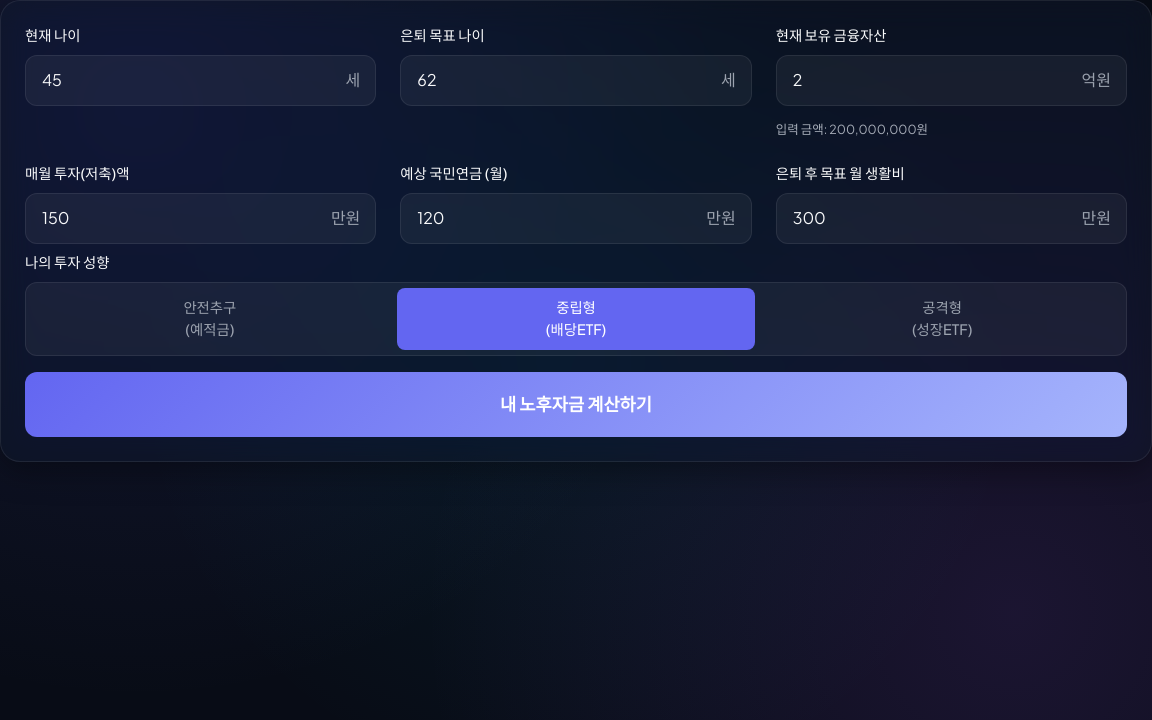
Test: SimpleSimulator 금액 입력 › 현재 자산은 억원으로 입력하고 원화 환산 금액을 보여준다
Check: the text "입력 금액: 200,000,000원" is shown, box left=776, top=121, right=928, bottom=137
Replace the text in the field named "currentAssets" next to "억원" with "3" at (951, 80), box left=776, top=55, right=1127, bottom=106
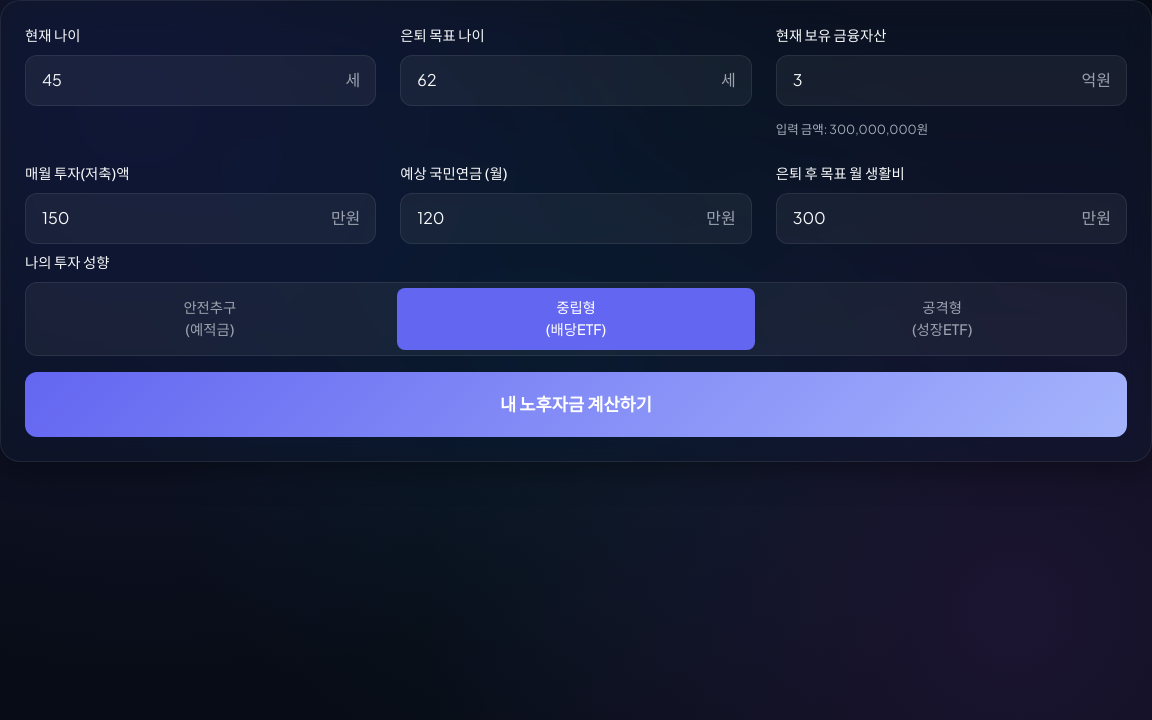
Check: the text "입력 금액: 300,000,000원" is shown, box left=776, top=121, right=928, bottom=137
